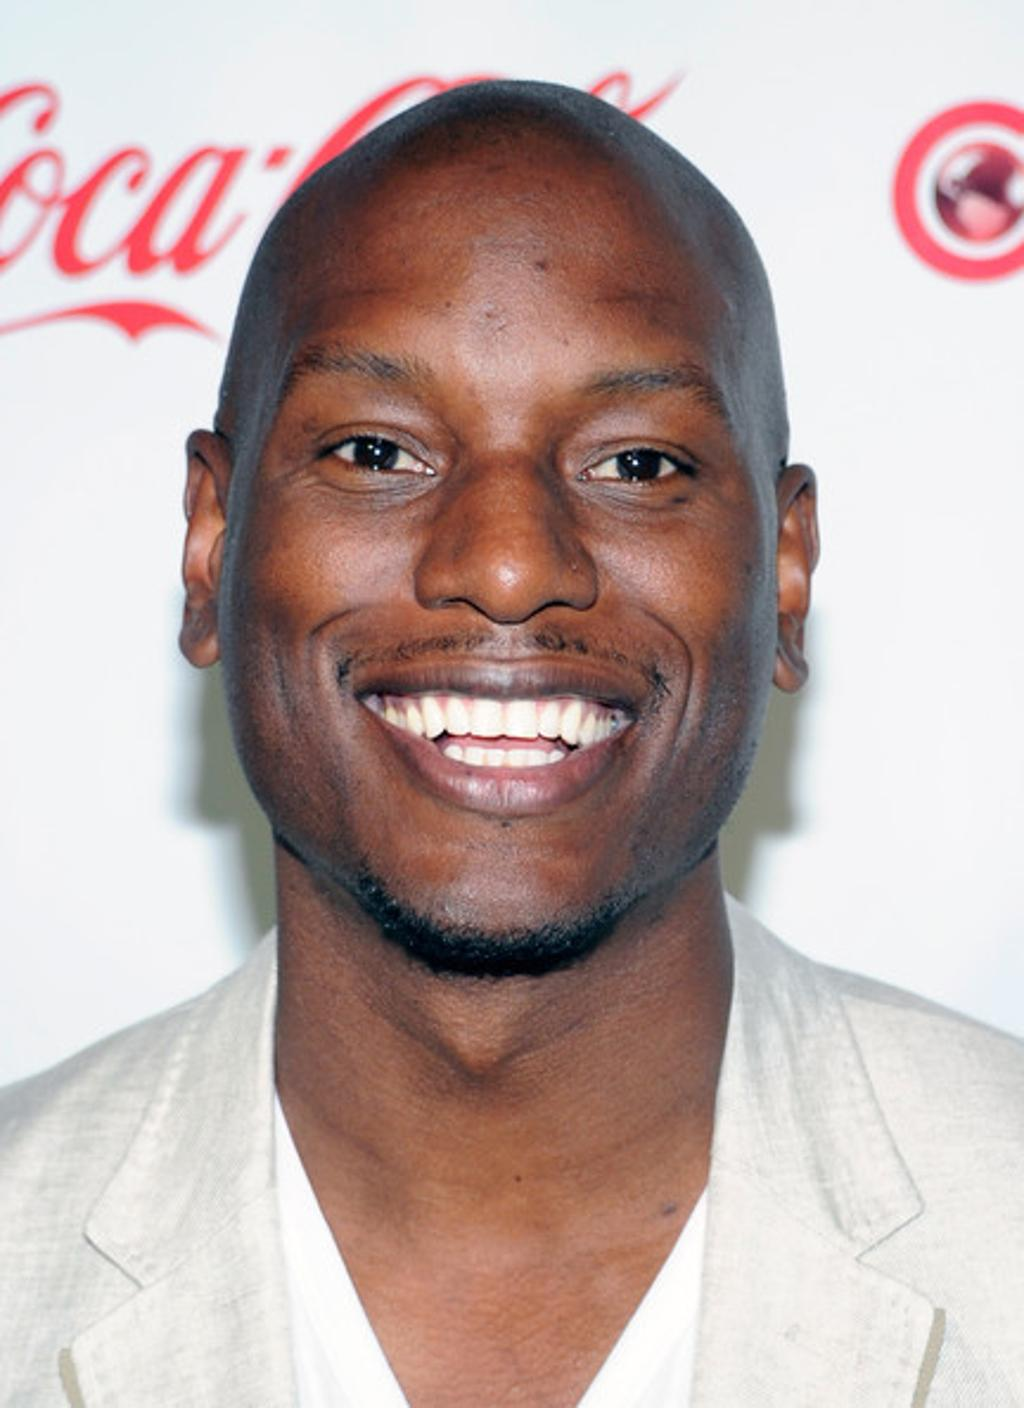face: (228, 138, 770, 956)
